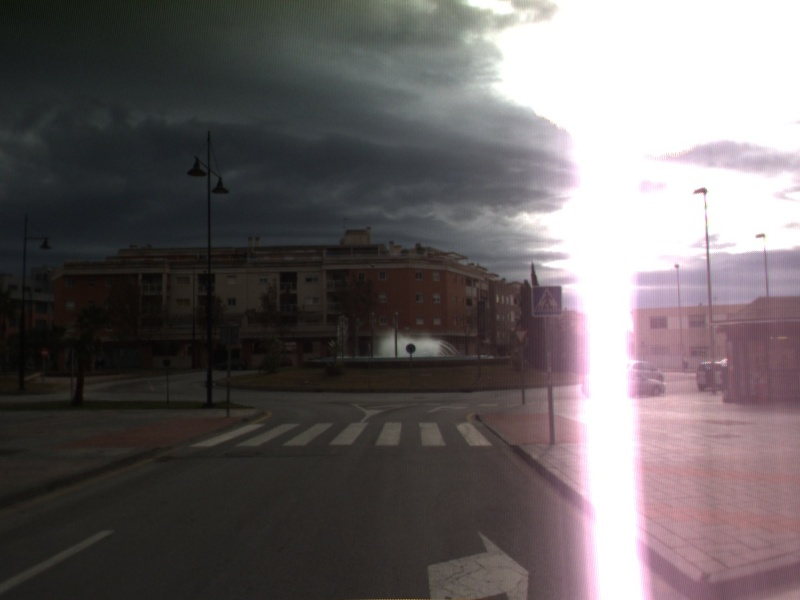RIGHT: (423, 526, 533, 600)
